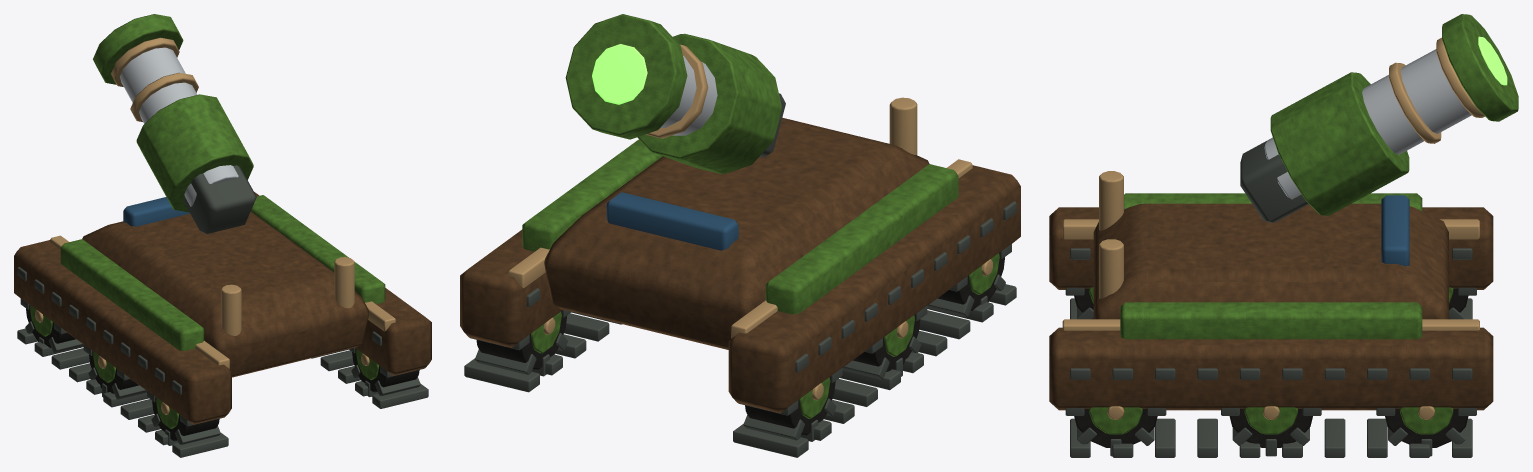
The model's file is vael_cracheur.gltf.
The picture shows the model from 3 angles, left to right: view 1: azimuth 30°, elevation 25°; view 2: azimuth 150°, elevation 25°; view 3: azimuth 270°, elevation 25°; orthographic projection. The views are drawn at different scales.
Visible parts, largest first — view 1: Root.031_Geometry, GunRecoil.009_Geometry, Track_-0.002_Geometry, GunPitch.013_Geometry, Track_0.002_Geometry, Wheel_-0.7526_-0.002_Geometry, Wheel_0.7526_-0.002_Geometry, Wheel_-0.7526_0.003_Geometry, Wheel_-0.7526_0.004_Geometry; view 2: Root.031_Geometry, GunRecoil.009_Geometry, Track_-0.002_Geometry, Track_0.002_Geometry, Wheel_-0.7526_0.004_Geometry, Wheel_0.7526_0.004_Geometry, Wheel_-0.7526_0.003_Geometry, Wheel_-0.7526_-0.002_Geometry; view 3: Root.031_Geometry, GunRecoil.009_Geometry, Track_0.002_Geometry, Wheel_0.7526_0.003_Geometry, Wheel_0.7526_-0.002_Geometry, Wheel_0.7526_0.004_Geometry, GunPitch.013_Geometry, Track_-0.002_Geometry, Wheel_-0.7526_-0.002_Geometry, Wheel_-0.7526_0.004_Geometry.
Boxes of the visible parts, x1,y1,x2,y2 form: Root.031_Geometry: [14, 192, 431, 424]; GunRecoil.009_Geometry: [93, 14, 253, 212]; Track_-0.002_Geometry: [17, 267, 228, 457]; GunPitch.013_Geometry: [183, 165, 256, 233]; Track_0.002_Geometry: [311, 331, 428, 408]; Wheel_-0.7526_-0.002_Geometry: [147, 391, 224, 445]; Wheel_0.7526_-0.002_Geometry: [349, 347, 423, 397]; Wheel_-0.7526_0.003_Geometry: [83, 344, 146, 399]; Wheel_-0.7526_0.004_Geometry: [20, 298, 83, 353]; Root.031_Geometry: [460, 65, 1020, 413]; GunRecoil.009_Geometry: [565, 14, 781, 173]; Track_-0.002_Geometry: [733, 201, 1016, 457]; Track_0.002_Geometry: [464, 288, 621, 392]; Wheel_-0.7526_0.004_Geometry: [738, 368, 842, 441]; Wheel_0.7526_0.004_Geometry: [470, 310, 571, 376]; Wheel_-0.7526_0.003_Geometry: [842, 306, 927, 379]; Wheel_-0.7526_-0.002_Geometry: [927, 244, 1011, 317]; Root.031_Geometry: [1049, 171, 1493, 410]; GunRecoil.009_Geometry: [1264, 14, 1518, 215]; Track_0.002_Geometry: [1070, 368, 1472, 457]; Wheel_0.7526_0.003_Geometry: [1221, 406, 1321, 456]; Wheel_0.7526_-0.002_Geometry: [1065, 406, 1166, 456]; Wheel_0.7526_0.004_Geometry: [1376, 406, 1476, 456]; GunPitch.013_Geometry: [1240, 137, 1308, 222]; Track_-0.002_Geometry: [1070, 248, 1472, 319]; Wheel_-0.7526_-0.002_Geometry: [1065, 287, 1093, 319]; Wheel_-0.7526_0.004_Geometry: [1449, 287, 1476, 319].
Size of the model in its own units: 1.88 by 2.13 by 2.48.
8 materials, 3 textured.
